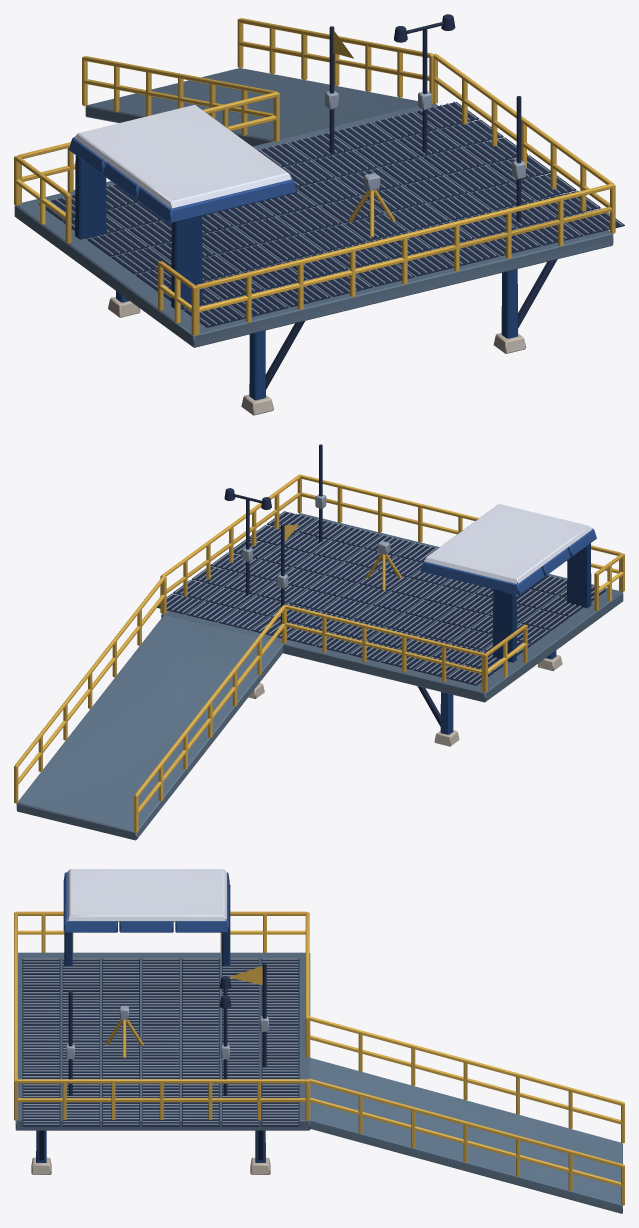
Rendered from instrument_deck.glb.
3 renders of one model, top to bottom at view 1: azimuth 30°, elevation 25°; view 2: azimuth 150°, elevation 25°; view 3: azimuth 270°, elevation 25°, orthographic. The views are drawn at different scales.
Parts seen in each view (by area): view 1: instrument_deck; view 2: instrument_deck; view 3: instrument_deck.
Part boxes in pixels (left/top/right/bottom): instrument_deck: left=14, top=14, right=624, bottom=415; instrument_deck: left=14, top=444, right=624, bottom=840; instrument_deck: left=14, top=869, right=624, bottom=1213.
Bounding box in the file's own units: 10.39 × 5.65 × 15.34.
